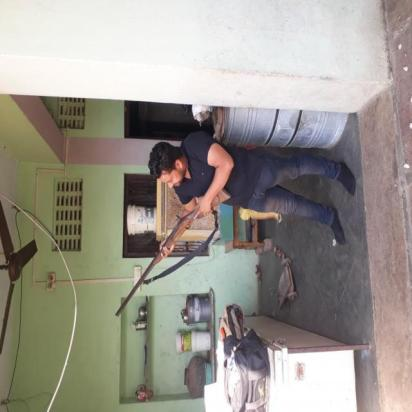Gun: (114, 186, 233, 318)
